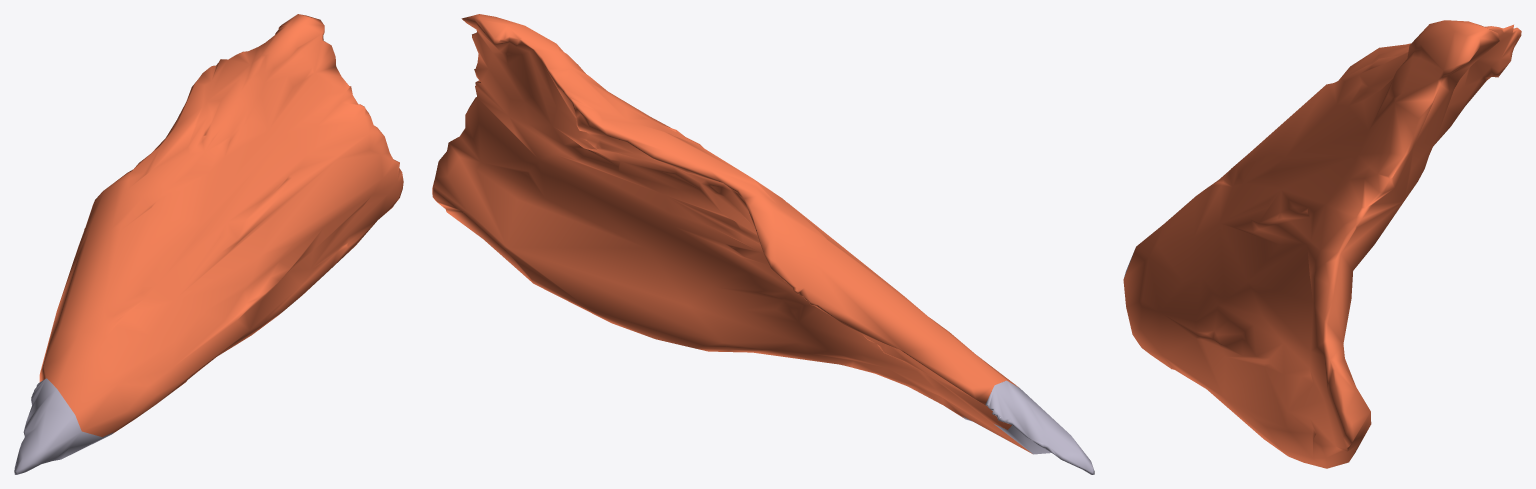
The model's file is Deep_head_of_flexor_pollicis_brevis.r_Generated_Mesh_From_X3D.9.glb.
3 views of the same model, side by side, from view 1: azimuth 30°, elevation 25°; view 2: azimuth 150°, elevation 25°; view 3: azimuth 270°, elevation 25° (orthographic). The views are drawn at different scales.
Visible parts, largest first — view 1: Deep_head_of_flexor_pollicis_brevis.r_Generated_Mesh_From_X3; view 2: Deep_head_of_flexor_pollicis_brevis.r_Generated_Mesh_From_X3; view 3: Deep_head_of_flexor_pollicis_brevis.r_Generated_Mesh_From_X3.
Boxes of the visible parts, x1,y1,x2,y2 form: Deep_head_of_flexor_pollicis_brevis.r_Generated_Mesh_From_X3: [14, 14, 403, 474]; Deep_head_of_flexor_pollicis_brevis.r_Generated_Mesh_From_X3: [432, 14, 1094, 474]; Deep_head_of_flexor_pollicis_brevis.r_Generated_Mesh_From_X3: [1123, 20, 1521, 468].
Size of the model in its own units: 0.0493 by 0.0332 by 0.0194.
